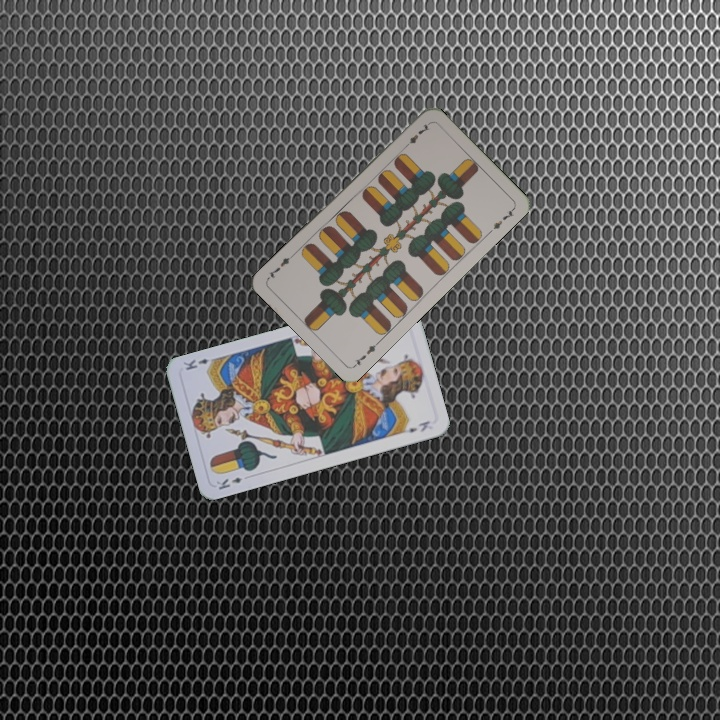E7: (400, 119, 433, 151), (350, 337, 382, 369)
EK: (212, 473, 245, 492)
